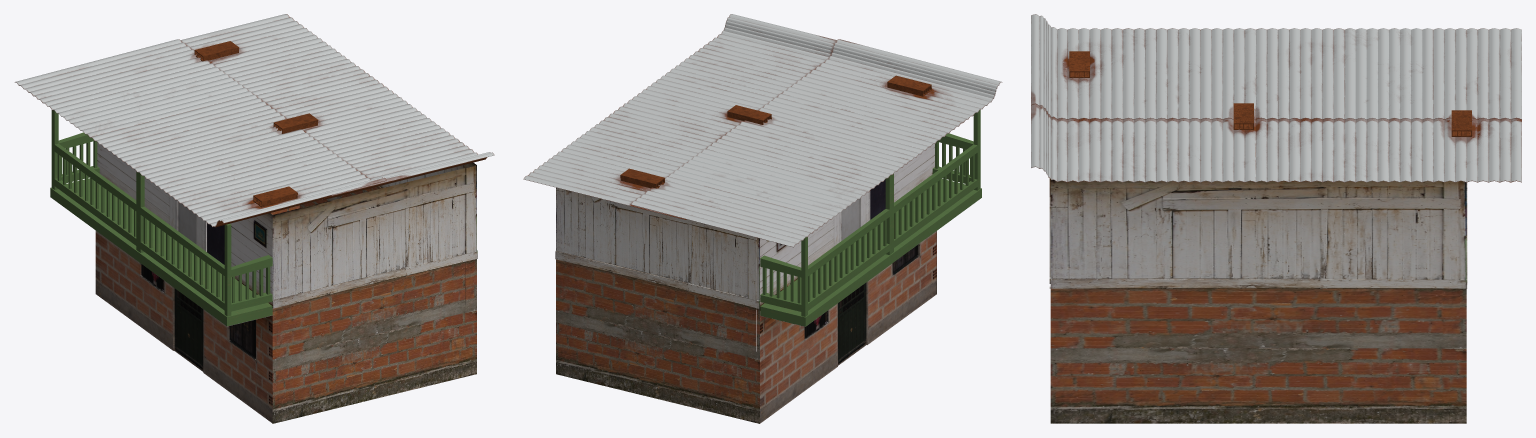
The model's file is casa_izquierda_08.fbx.
3 views of the same model, side by side, from view 1: azimuth 30°, elevation 25°; view 2: azimuth 150°, elevation 25°; view 3: azimuth 270°, elevation 25° (orthographic). The views are drawn at different scales.
Visible parts, largest first — view 1: Techo 08, casa_izquierda_08B.002, casa_izquierda_08A.001, casa_izquierda_08A.002, casa_izquierda_08B.003; view 2: Techo 08, casa_izquierda_08B.001, casa_izquierda_08A.001, casa_izquierda_08A.002; view 3: casa_izquierda_08B.003, Techo 08.
Part boxes in pixels (bbox=[...]): Techo 08: bbox=[14, 14, 494, 227]; casa_izquierda_08B.002: bbox=[272, 165, 477, 423]; casa_izquierda_08A.001: bbox=[95, 142, 272, 423]; casa_izquierda_08A.002: bbox=[50, 110, 272, 326]; casa_izquierda_08B.003: bbox=[299, 162, 477, 304]; Techo 08: bbox=[523, 14, 1002, 247]; casa_izquierda_08B.001: bbox=[555, 187, 759, 423]; casa_izquierda_08A.001: bbox=[760, 144, 936, 423]; casa_izquierda_08A.002: bbox=[759, 109, 981, 326]; casa_izquierda_08B.003: bbox=[1050, 179, 1466, 423]; Techo 08: bbox=[1031, 14, 1521, 182].
Size of the model in its own units: 861 by 683 by 1152.
